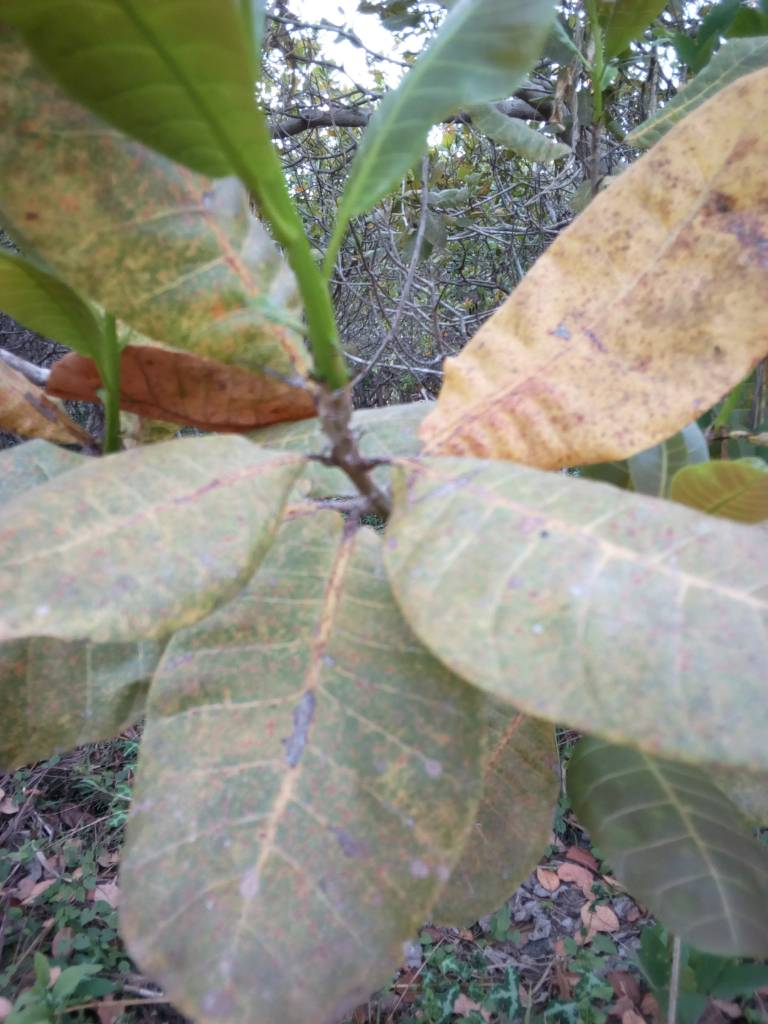Alternariose: (116, 488, 540, 1002), (418, 83, 768, 457), (390, 460, 768, 757), (2, 44, 307, 367), (1, 436, 304, 661)
